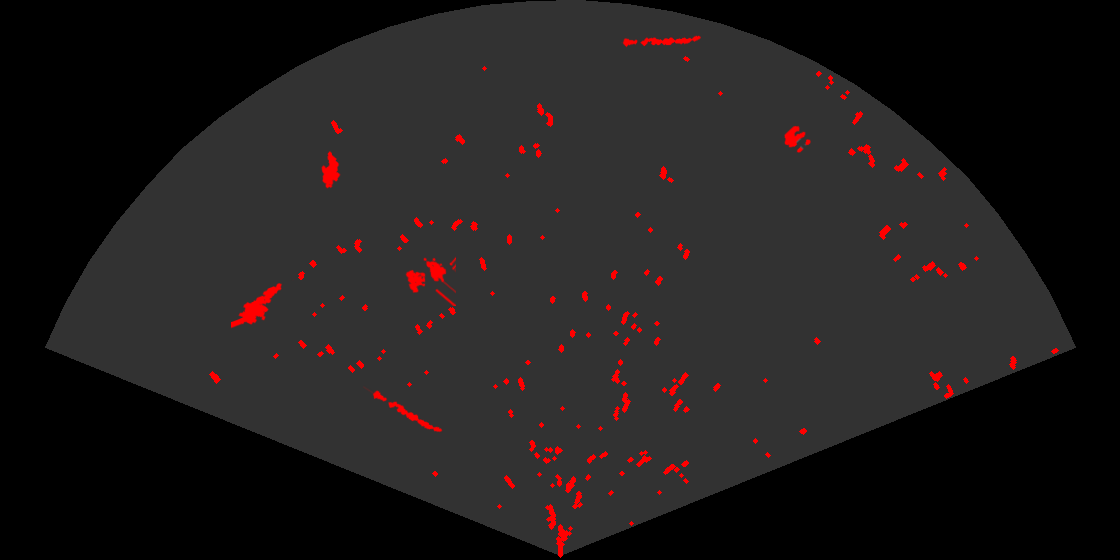AUV: (320, 149, 342, 190)
ball: (783, 124, 812, 154)
cage: (404, 255, 456, 306)
chain: (363, 385, 444, 434), (621, 34, 701, 49)
frogman: (231, 279, 294, 330)
